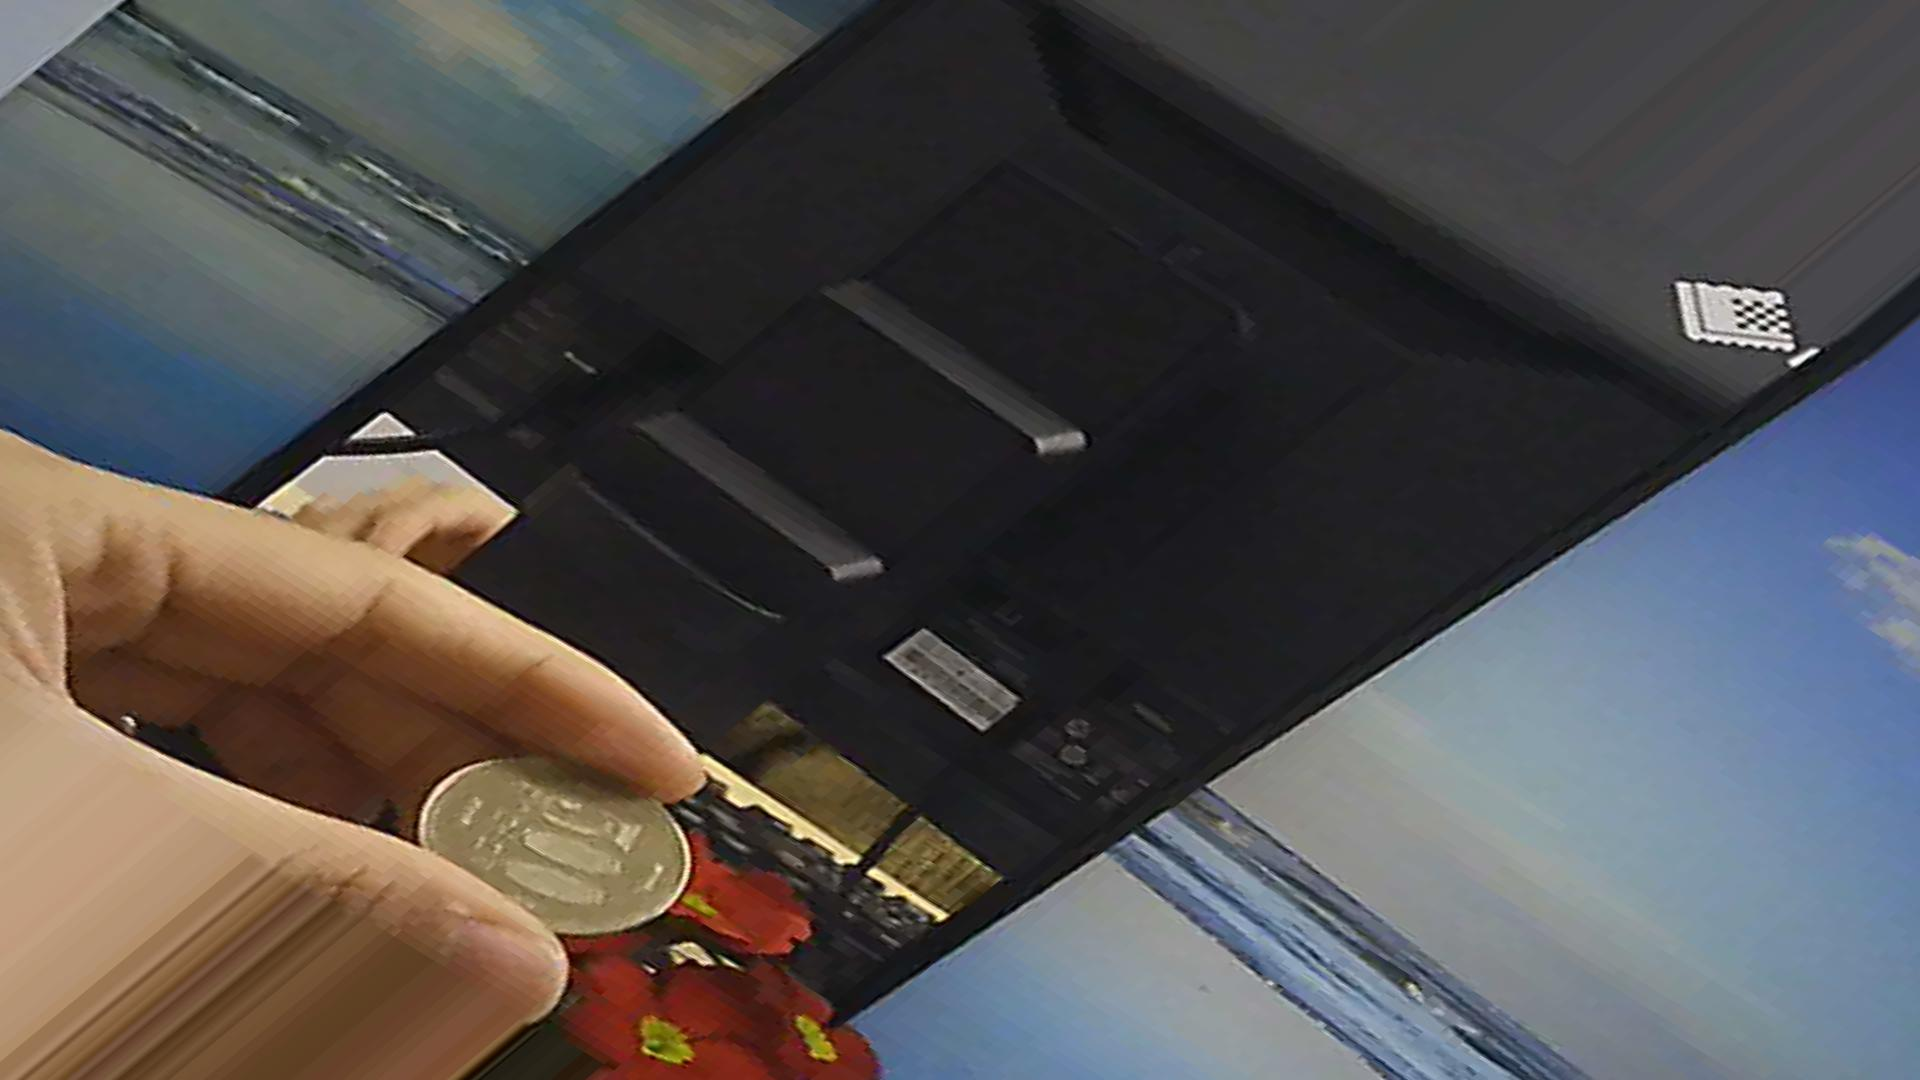500 Yen: (404, 732, 699, 960)
